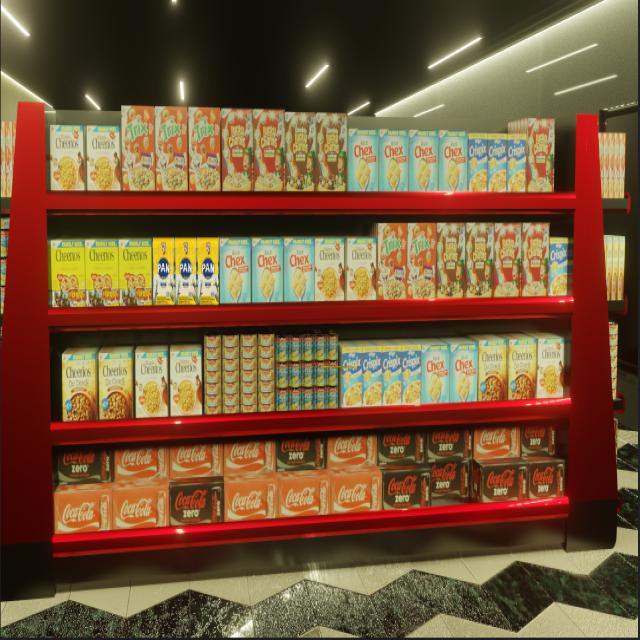Arina_pan: (152, 236, 176, 306), (177, 239, 198, 307), (198, 239, 219, 303)
